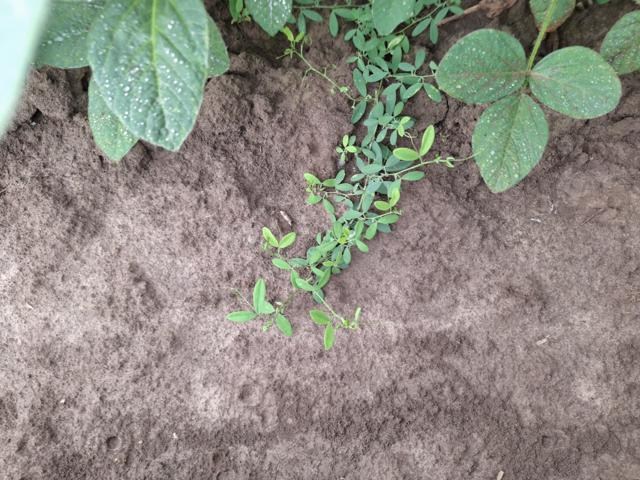bad weed: (225, 4, 477, 344)
